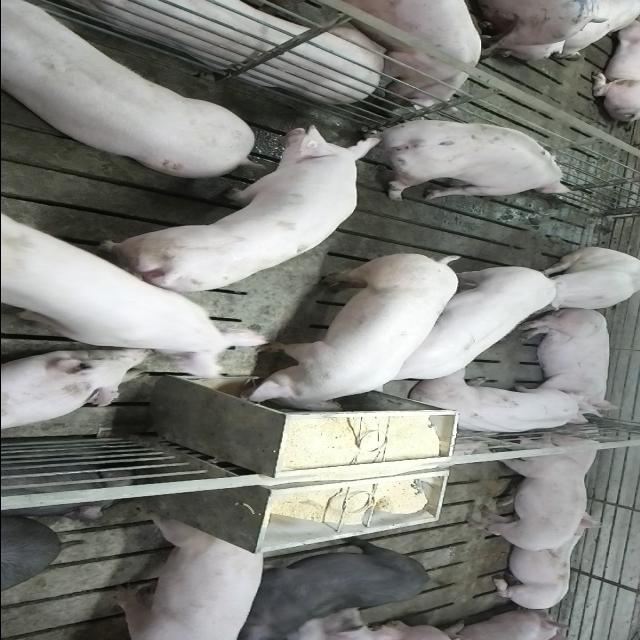Feeding: (234, 255, 466, 419)
Lateral_lying: (49, 0, 416, 103), (514, 306, 620, 418)
Sitting: (524, 247, 640, 315)
Standing: (88, 127, 375, 298), (0, 0, 256, 175), (362, 261, 562, 390), (97, 511, 267, 639), (361, 118, 573, 204), (457, 426, 595, 554), (337, 0, 479, 106)
Sternal_lying: (0, 351, 152, 434), (407, 375, 595, 438), (486, 516, 608, 610)
